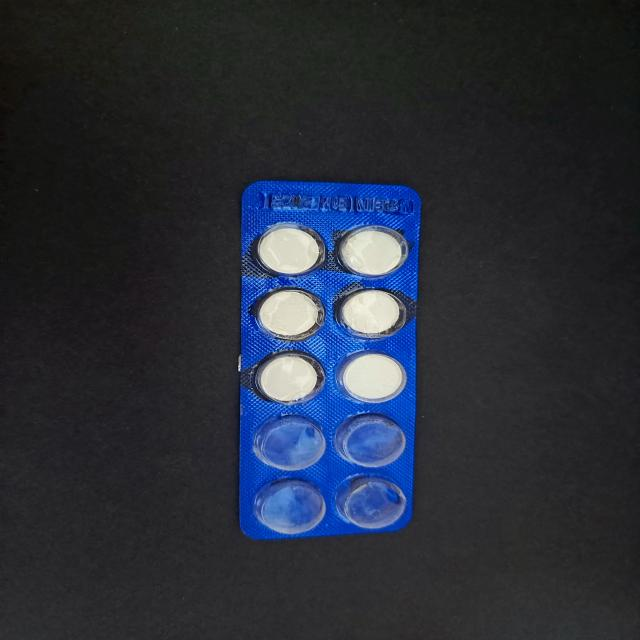defect: (251, 412, 330, 472), (254, 476, 328, 536), (334, 411, 408, 470), (334, 473, 408, 530)
